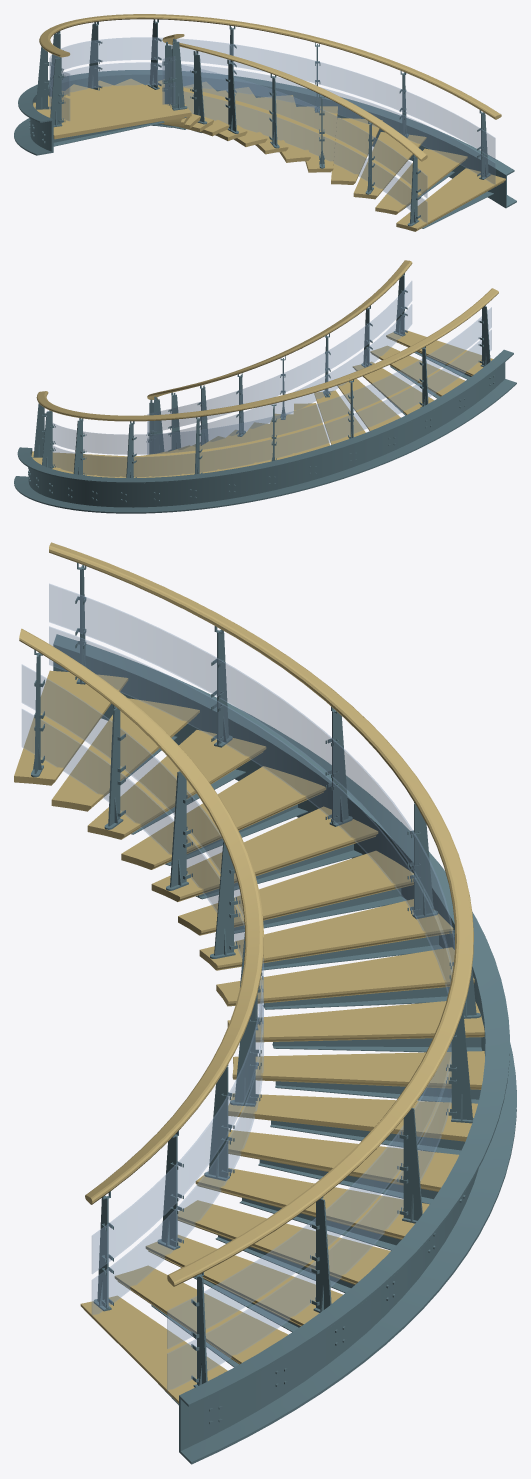
File: stair.fbx
The picture shows the model from 3 angles, top to bottom: view 1: azimuth 30°, elevation 25°; view 2: azimuth 150°, elevation 25°; view 3: azimuth 270°, elevation 25°; orthographic projection. The views are drawn at different scales.
Visible parts, largest first — view 1: Handrail.019, Custom, Handrail, Handrail.018, Handrail.036, Handrail.034, Handrail.030, Handrail.011, Baluster.031, Handrail.009, Handrail.028, Handrail.001 (+7 smaller); view 2: Handrail.019, Custom, Handrail, Handrail.022, Handrail.018, Handrail.020, Handrail.024, Handrail.036, Handrail.003, Handrail.005, Handrail.026, Handrail.015 (+2 smaller); view 3: Handrail.019, Custom, Handrail, Baluster.019, Baluster.021, Baluster.017, Baluster.015, Handrail.005, Handrail.024, Handrail.030, Handrail.026, Baluster.013 (+14 smaller).
Boxes of the visible parts, <box> form: Handrail.019: <box>14,14,516,208</box>; Custom: <box>33,79,505,231</box>; Handrail: <box>162,34,427,224</box>; Handrail.018: <box>169,38,187,110</box>; Handrail.036: <box>50,56,65,127</box>; Handrail.034: <box>35,46,50,109</box>; Handrail.030: <box>86,21,102,90</box>; Handrail.011: <box>190,50,207,124</box>; Baluster.031: <box>53,121,164,146</box>; Handrail.009: <box>225,59,238,133</box>; Handrail.028: <box>147,19,161,89</box>; Handrail.001: <box>407,154,420,226</box>; Handrail.019: <box>14,288,516,513</box>; Custom: <box>31,330,493,477</box>; Handrail: <box>147,260,412,454</box>; Handrail.022: <box>42,410,55,468</box>; Handrail.018: <box>393,273,407,336</box>; Handrail.020: <box>32,403,46,457</box>; Handrail.024: <box>73,418,86,475</box>; Handrail.036: <box>478,305,490,367</box>; Handrail.003: <box>150,396,163,453</box>; Handrail.005: <box>168,392,180,451</box>; Handrail.026: <box>126,421,136,477</box>; Handrail.015: <box>361,305,372,367</box>; Handrail.019: <box>49,542,516,1464</box>; Custom: <box>14,670,484,1403</box>; Handrail: <box>19,628,263,1318</box>; Baluster.019: <box>263,987,449,1009</box>; Baluster.021: <box>262,935,442,970</box>; Baluster.017: <box>272,1037,482,1052</box>; Baluster.015: <box>275,1081,480,1103</box>; Handrail.005: <box>204,1064,234,1180</box>; Handrail.024: <box>397,1108,422,1223</box>; Handrail.030: <box>407,802,438,919</box>; Handrail.026: <box>446,1010,473,1123</box>; Baluster.013: <box>270,1120,464,1154</box>.
Bounding box in the file's own units: 742 × 410 × 365.
